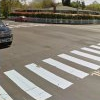crosswalk: (0, 42, 99, 100)
